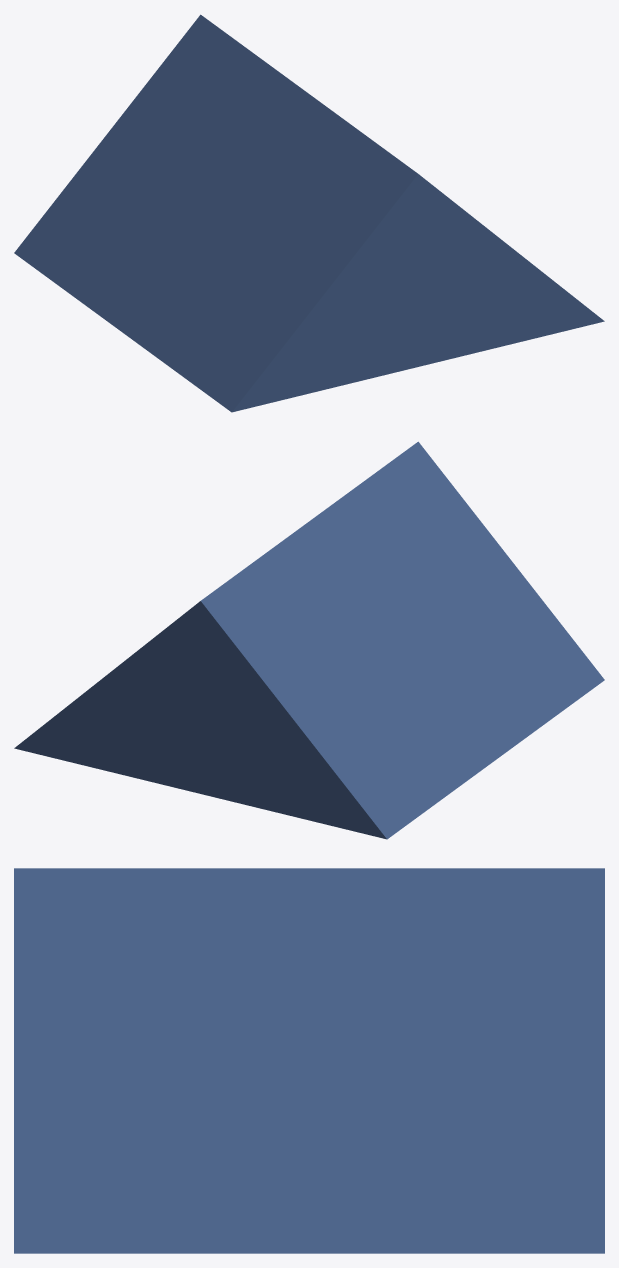
The model's file is roof.glb.
3 renders of one model, top to bottom at view 1: azimuth 30°, elevation 25°; view 2: azimuth 150°, elevation 25°; view 3: azimuth 270°, elevation 25°, orthographic. The views are drawn at different scales.
Parts seen in each view (by area): view 1: Mesh_Mesh_head_geo.001_lambert2SG.001; view 2: Mesh_Mesh_head_geo.001_lambert2SG.001; view 3: Mesh_Mesh_head_geo.001_lambert2SG.001.
Boxes of the visible parts, x1,y1,x2,y2 form: Mesh_Mesh_head_geo.001_lambert2SG.001: (14,14,604,412); Mesh_Mesh_head_geo.001_lambert2SG.001: (14,441,604,839); Mesh_Mesh_head_geo.001_lambert2SG.001: (14,868,604,1253).
Bounding box in the file's own units: 0.0202 × 0.01 × 0.0204.
